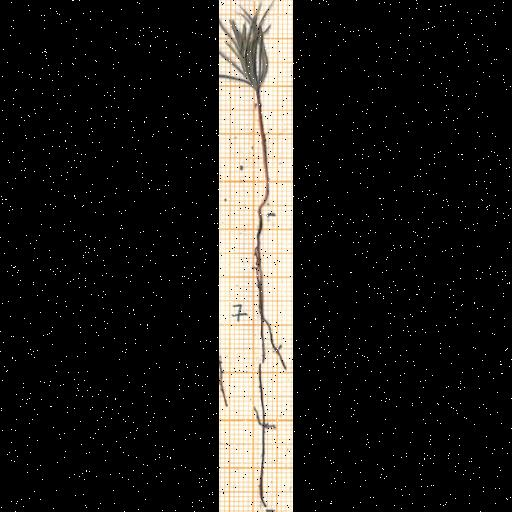flowerPinus: (219, 4, 271, 91)
rootPinus: (255, 215, 287, 370)
stemPinus: (255, 89, 269, 213)
